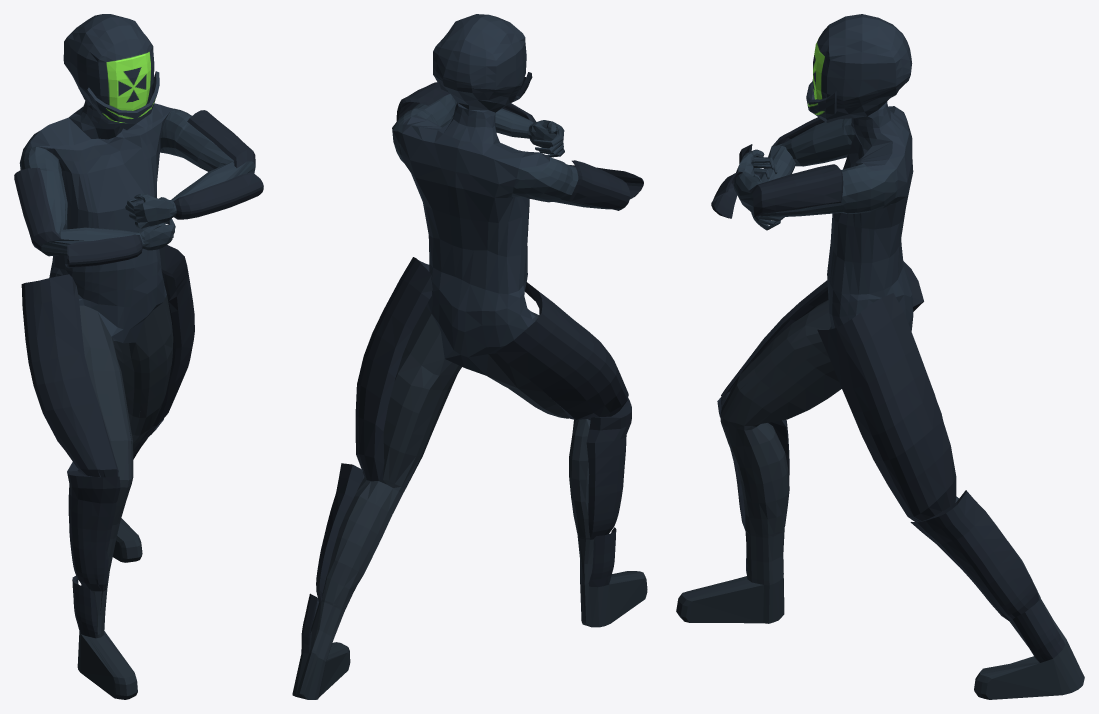
File: Bastion_Hit_Recover_000018.obj
3 renders of one model, left to right at view 1: azimuth 30°, elevation 25°; view 2: azimuth 150°, elevation 25°; view 3: azimuth 270°, elevation 25°, orthographic. The views are drawn at different scales.
Parts seen in each view (by area): view 1: Cube.002; view 2: Cube.002; view 3: Cube.002.
Part boxes in pixels (<box>): Cube.002: <box>14,14,263,699</box>; Cube.002: <box>292,14,647,699</box>; Cube.002: <box>676,14,1084,699</box>.
Bounding box in the file's own units: 1.31 × 3.6 × 2.09.
